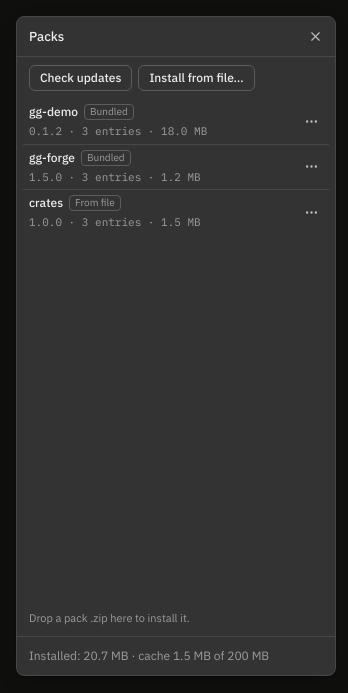
PacksSheet › the footer reads what is installed and the cache, both from the manager, and moves with an uninstall
Expected: the text with test id "v2-packs-usage" reads "Installed: 20.7 MB · cache 1.5 MB of 200 MB", x1=29 y1=648 x2=269 y2=663
What coordinates should you click on to do the following:
click the button named "crates options"
I would click on:
 (311, 212)
Its box is x1=297 y1=198 x2=325 y2=226.
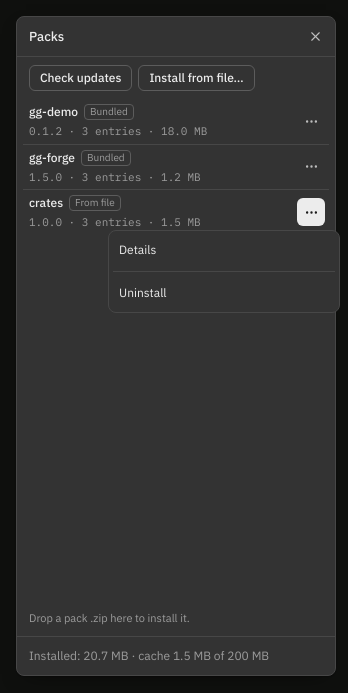
What coordinates should you click on to do the following:
click the menu item "Uninstall"
I would click on:
 (224, 293)
Its box is x1=113 y1=278 x2=335 y2=308.
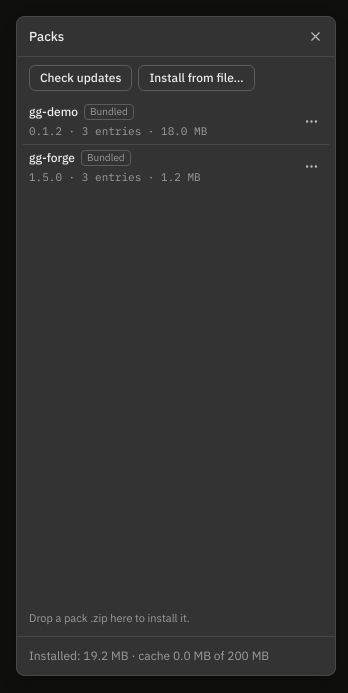
Result: the text with test id "v2-packs-usage" reads "Installed: 19.2 MB · cache 0.0 MB of 200 MB" at x1=29 y1=648 x2=269 y2=663
